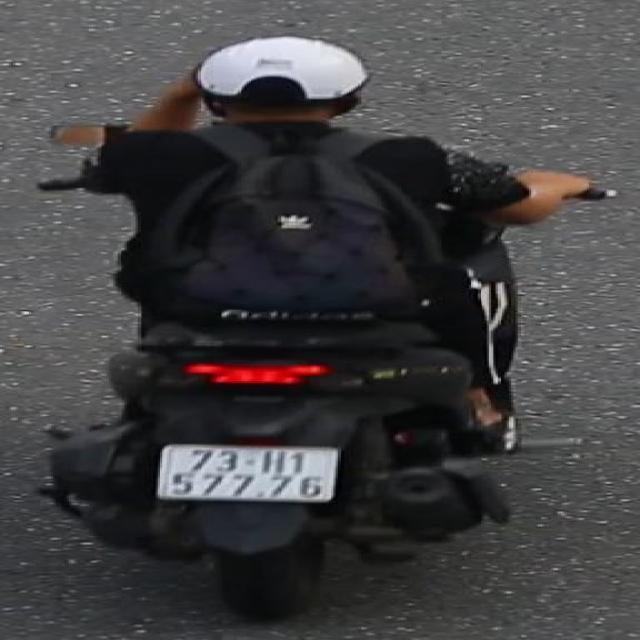LP: (156, 441, 347, 506)
helmet: (188, 31, 374, 135)
